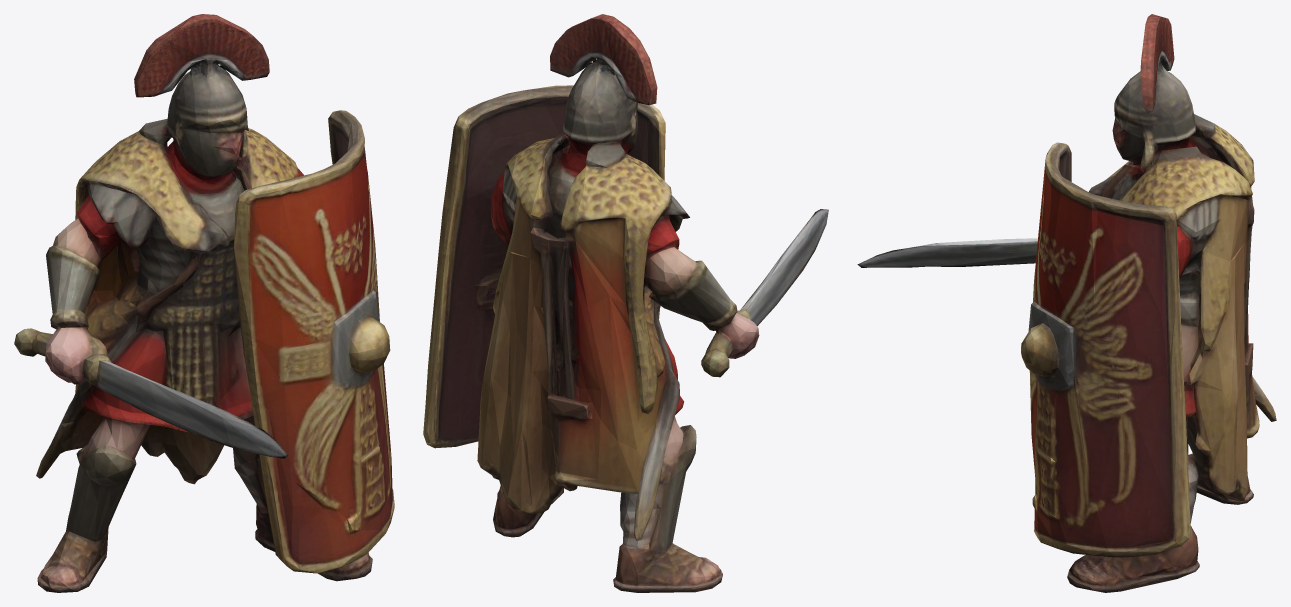
Rendered from legionShieldbearer.glb.
3 views of the same model, side by side, from view 1: azimuth 30°, elevation 25°; view 2: azimuth 150°, elevation 25°; view 3: azimuth 270°, elevation 25° (orthographic). The views are drawn at different scales.
Parts seen in each view (by area): view 1: world; view 2: world; view 3: world.
Boxes of the visible parts, box(x1,y1,x2,y2) form: world: box(14, 14, 394, 592); world: box(423, 14, 828, 592); world: box(857, 14, 1276, 592).
Bounding box in the file's own units: 0.4603 × 0.7255 × 0.5381.
1 material, 1 textured.
